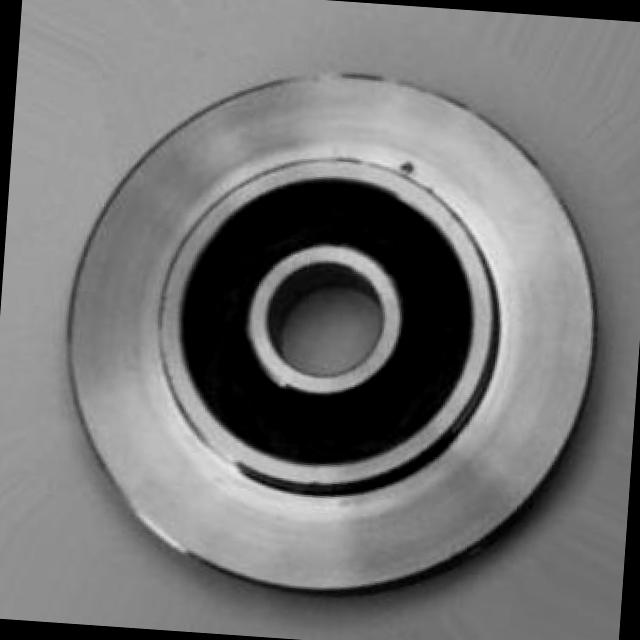Defect: (396, 153, 425, 186)
